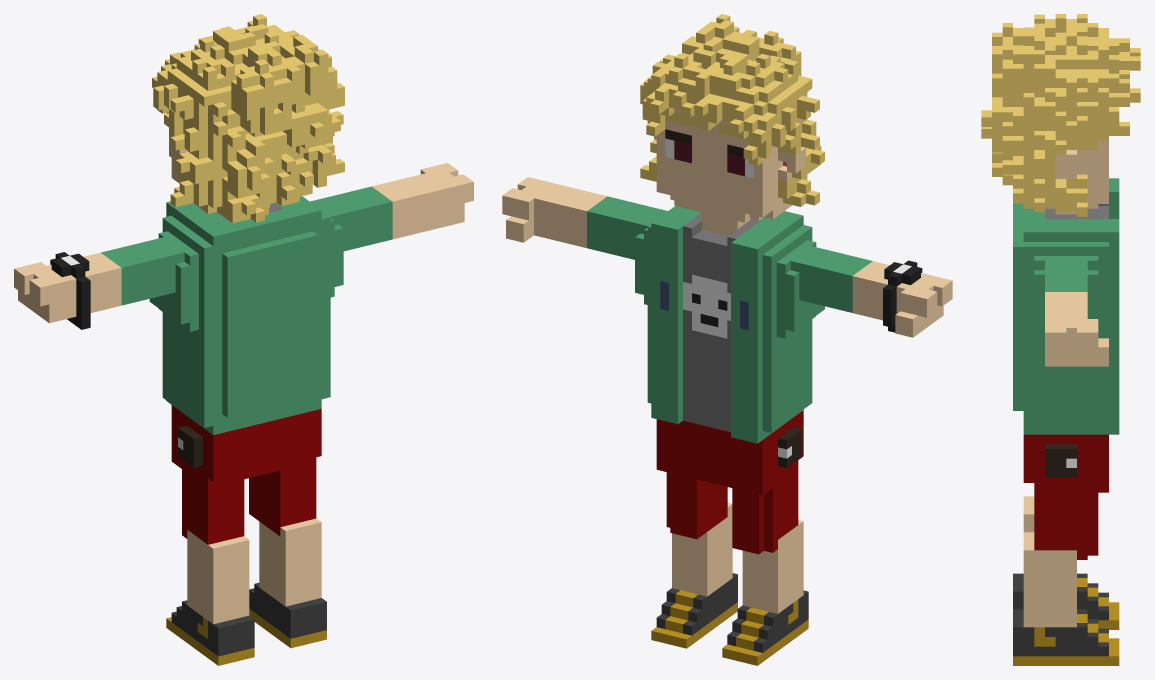
Rendered from Dave.fbx.
3 renders of one model, left to right at view 1: azimuth 30°, elevation 25°; view 2: azimuth 150°, elevation 25°; view 3: azimuth 270°, elevation 25°, orthographic. The views are drawn at different scales.
Parts seen in each view (by area): view 1: Untitled; view 2: Untitled; view 3: Untitled.
Part boxes in pixels (bbox=[...]): Untitled: bbox=[14, 14, 473, 665]; Untitled: bbox=[502, 14, 952, 665]; Untitled: bbox=[981, 14, 1140, 665].
Bounding box in the file's own units: 480 × 630 × 150.
1 material, 1 textured.
